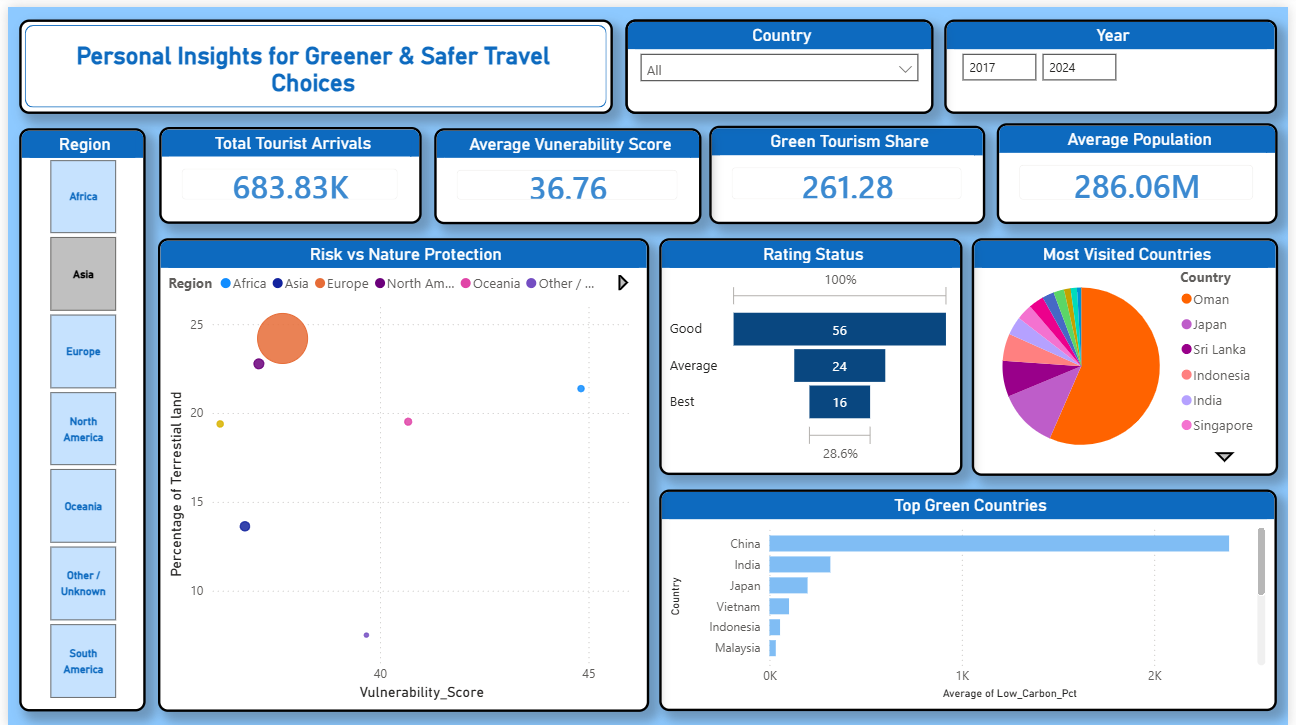

This screenshot's page, from the dashboard's own definition file:
{"tool":"powerbi","page":{"name":"Page 3","canvas":[1280,720],"ordinal":2},"visuals":[{"type":"shape","box":[11,12.3,593.9,94.5],"z":0},{"type":"slicer","title":"Country","fields":{"Values":["Sheet1.Country"]},"box":[617.5,12.3,307.4,94.7],"z":1000},{"type":"slicer","title":"Year","fields":{"Values":["Sheet1.Year"]},"box":[936.2,12.3,332.5,94.5],"z":2000},{"type":"slicer","title":"Region","fields":{"Values":["Sheet1.Region"]},"box":[11,121.5,126.4,582.8],"z":3000},{"type":"cardVisual","title":"Total Tourist Arrivals","fields":{"Data":["Sum(Sheet1.Tourist_arrivals)"]},"box":[150.9,120.2,262.6,96.9],"z":5000},{"type":"cardVisual","title":"Green Tourism Share","fields":{"Data":["Avg(Sheet1.Low_Carbon_Pct)"]},"box":[701.8,119,276.1,98.2],"z":6000},{"type":"cardVisual","title":"Average Vunerability Score","fields":{"Data":["Avg(Sheet1.Vulnerability_Score)"]},"box":[425.8,121.5,267.5,95.7],"z":7000},{"type":"cardVisual","title":"Average Population","fields":{"Data":["Avg(Sheet1.Population)"]},"box":[989,116.6,281,100.6],"z":8000},{"type":"textbox","box":[22.1,29.4,565.6,65],"z":9000},{"type":"pieChart","title":"Most Visited Countries","fields":{"Y":["Sum(Sheet1.Tourist_arrivals)"],"Category":["Sheet1.Country"]},"box":[964.2,231,306.1,237.9],"z":10000},{"type":"funnel","title":"Rating Status","fields":{"Y":["CountNonNull(Sheet1.Tourism Rating out of 10)"],"Category":["Sheet1.rating_status"]},"box":[651.1,231,303.3,236.5],"z":11000},{"type":"clusteredBarChart","title":"Top Green Countries","fields":{"Category":["Sheet1.Country"],"Y":["Avg(Sheet1.Low_Carbon_Pct)"]},"box":[651.1,482.8,617.7,221.2],"z":12000},{"type":"slicer","title":"Country","fields":{"Values":["Sheet1.Country"]},"box":[617.2,12.3,308,94.5],"z":13000},{"type":"scatterChart","title":"Risk vs Nature Protection","fields":{"X":["Avg(Sheet1.Vulnerability_Score)"],"Y":["Avg(Sheet1.Land_percent)"],"Size":["Sum(Sheet1.Tourist_arrivals)"],"Series":["Sheet1.Region"]},"box":[149.7,230.7,490.8,473.6],"z":14000}]}

Visuals, with their boxes in screenshot pixels (x1, y1, x2, y2), scaled from the page's 1280x720 canvas onto the 1296x725 screenshot:
shape: detection(11, 12, 612, 108)
"Country" slicer: detection(625, 12, 936, 108)
"Year" slicer: detection(948, 12, 1285, 108)
"Region" slicer: detection(11, 122, 139, 709)
"Total Tourist Arrivals" cardVisual: detection(153, 121, 419, 219)
"Green Tourism Share" cardVisual: detection(711, 120, 990, 219)
"Average Vunerability Score" cardVisual: detection(431, 122, 702, 219)
"Average Population" cardVisual: detection(1001, 117, 1286, 219)
textbox: detection(22, 30, 595, 95)
"Most Visited Countries" pieChart: detection(976, 233, 1286, 472)
"Rating Status" funnel: detection(659, 233, 966, 471)
"Top Green Countries" clusteredBarChart: detection(659, 486, 1285, 709)
"Country" slicer: detection(625, 12, 937, 108)
"Risk vs Nature Protection" scatterChart: detection(152, 232, 649, 709)
